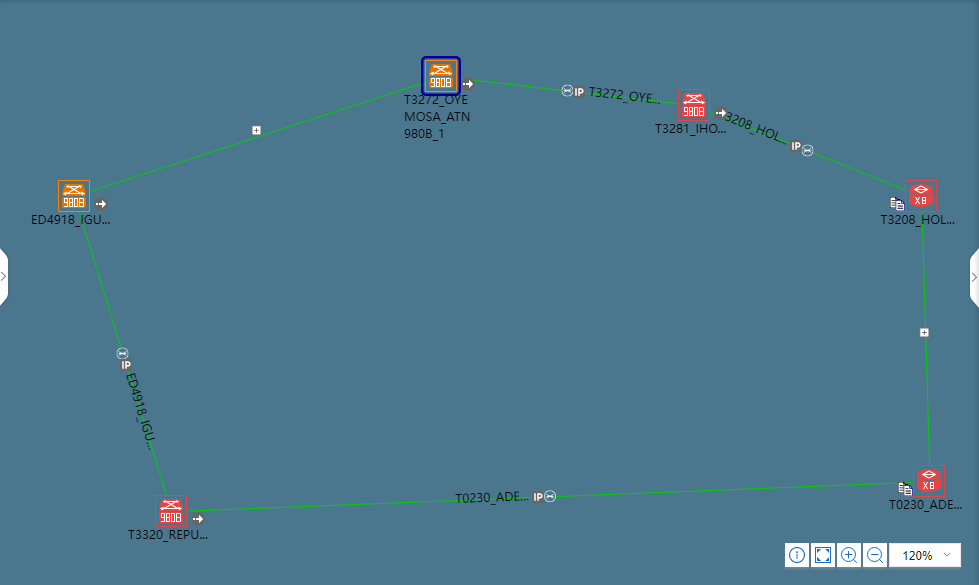ATN_Orange: (58, 179, 87, 214), (425, 63, 454, 92)
ATN_Red: (676, 88, 711, 123), (156, 497, 184, 525)
Link_Green: (89, 81, 424, 196), (76, 216, 173, 496), (193, 479, 913, 511), (720, 112, 907, 196), (462, 75, 681, 110), (921, 253, 932, 462)
Router_Red: (903, 179, 938, 214), (915, 467, 944, 496)
